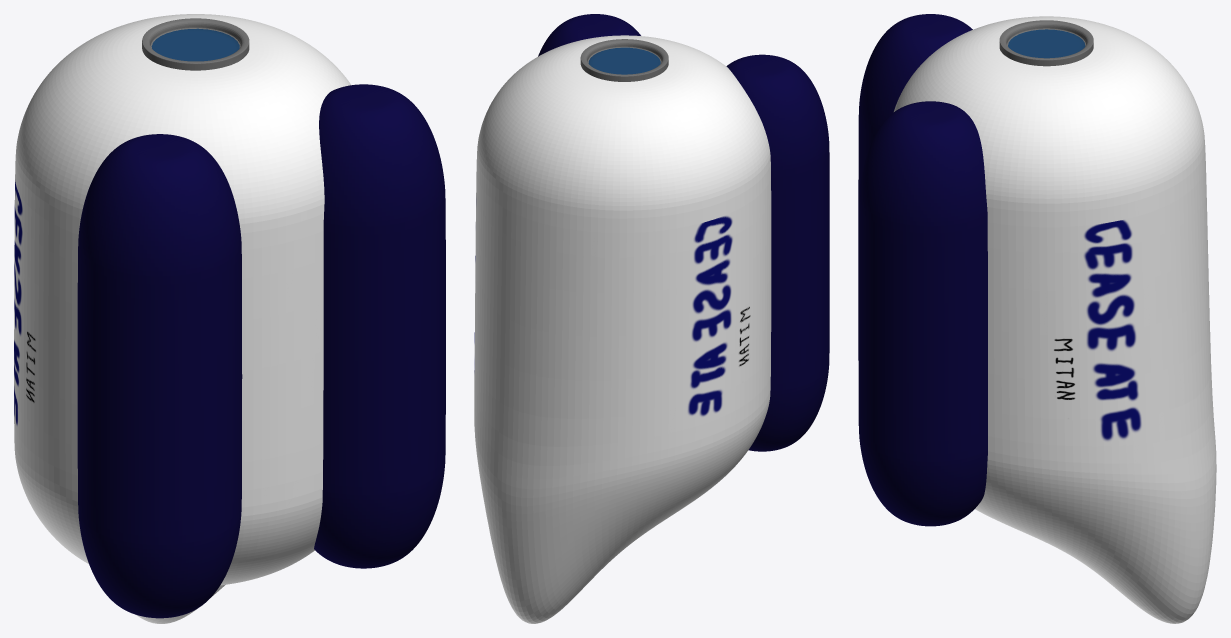
The model's file is submarine.fbx.
3 views of the same model, side by side, from view 1: azimuth 30°, elevation 25°; view 2: azimuth 150°, elevation 25°; view 3: azimuth 270°, elevation 25° (orthographic). The views are drawn at different scales.
Parts seen in each view (by area): view 1: Board; view 2: Board; view 3: Board.
Part boxes in pixels (box(x1,y1,x2,y2)): Board: box(14, 14, 445, 623); Board: box(474, 14, 829, 623); Board: box(858, 14, 1216, 623).
Bounding box in the file's own units: 219 × 390 × 224.
